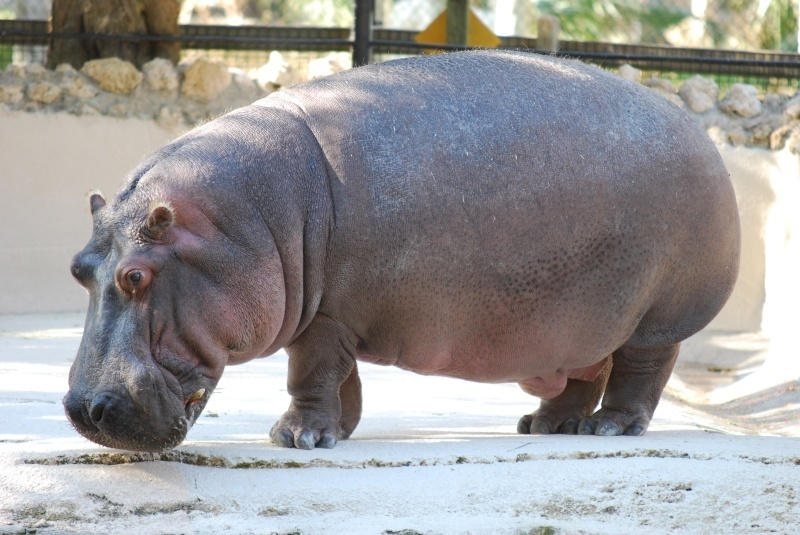hipopotamo: (35, 28, 779, 463)
